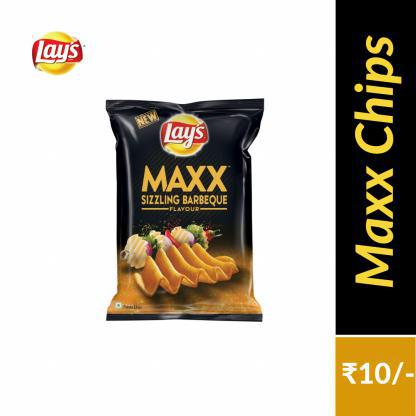maxx_sizzling_barbeque: (107, 101, 262, 320)
